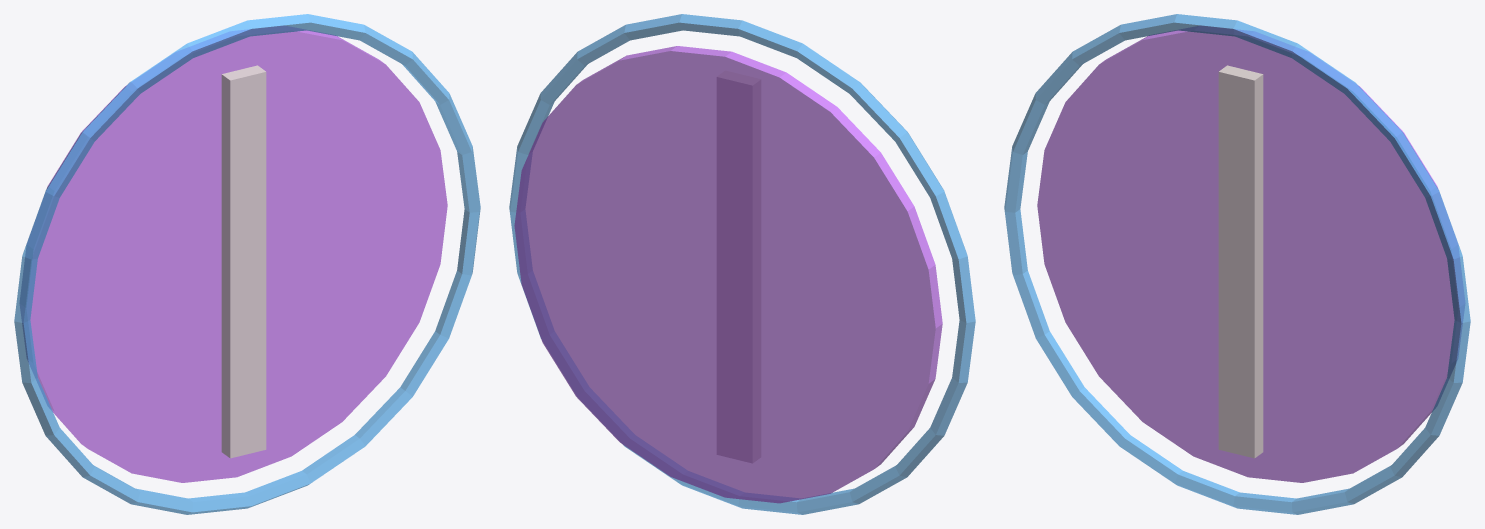
File: vfx_rhythm_beat_marker.glb
3 renders of one model, left to right at view 1: azimuth 30°, elevation 25°; view 2: azimuth 150°, elevation 25°; view 3: azimuth 330°, elevation 25°, orthographic.
Parts seen in each view (by area): view 1: disc, ring, bar; view 2: disc, ring, bar; view 3: disc, ring, bar.
Part boxes in pixels (x1=…): disc: x1=20, y1=26, x2=447, y2=482; ring: x1=14, y1=14, x2=480, y2=514; bar: x1=221, y1=65, x2=266, y2=458; disc: x1=514, y1=46, x2=942, y2=503; ring: x1=509, y1=14, x2=975, y2=514; bar: x1=717, y1=71, x2=760, y2=462; disc: x1=1037, y1=26, x2=1464, y2=482; ring: x1=1004, y1=14, x2=1470, y2=514; bar: x1=1218, y1=65, x2=1263, y2=458.
Bounding box in the file's own units: 1.55 × 1.55 × 0.1238.
